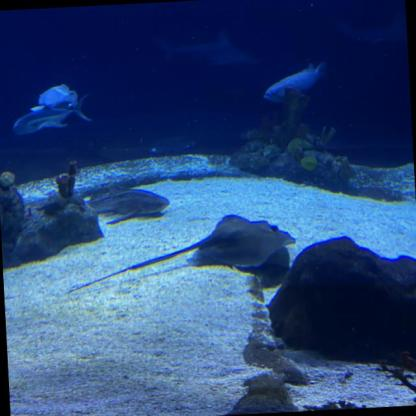fish: (77, 185, 171, 220), (262, 64, 331, 101), (6, 105, 95, 133), (31, 84, 85, 110)
shark: (164, 34, 257, 70)
stingray: (194, 210, 296, 268)
